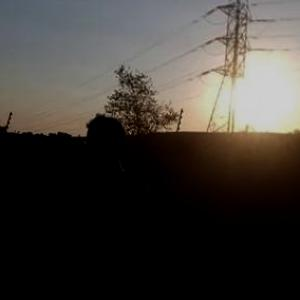follow: (51, 109, 152, 299)
